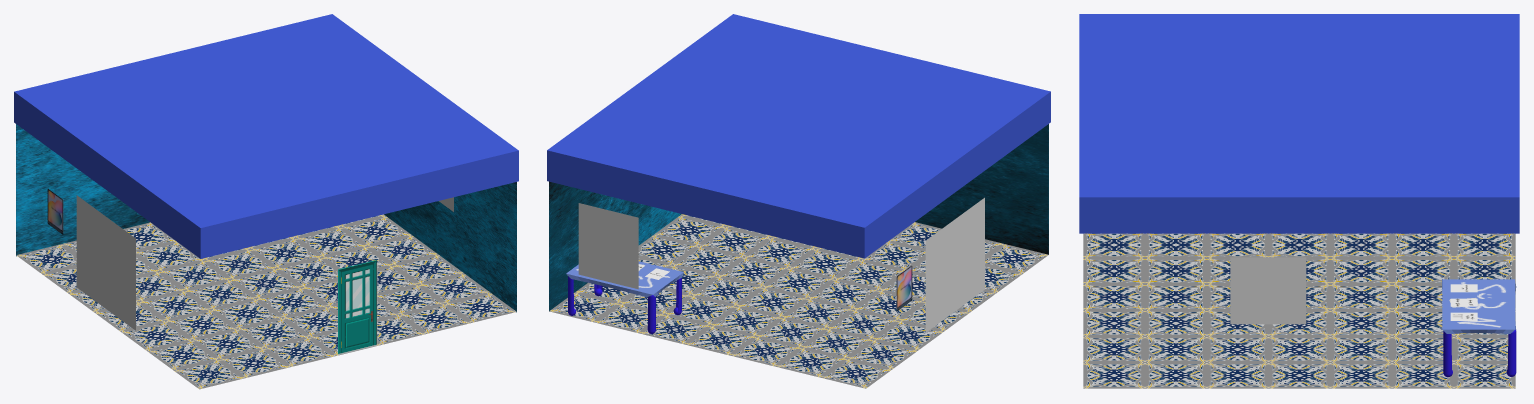
The model's file is vworld-mofid-inside-room.glb.
The picture shows the model from 3 angles, left to right: view 1: azimuth 30°, elevation 25°; view 2: azimuth 150°, elevation 25°; view 3: azimuth 270°, elevation 25°; orthographic projection. The views are drawn at different scales.
Visible parts, largest first — view 1: roof, ground, wall1, wall3, scoreboard, door, tablet; view 2: roof, ground, wall4, scoreboard, wall1, jobsboard, ontable, tablet; view 3: roof, ground, addjobboard, ontable, base2, base4.
Part boxes in pixels (<box>): roof: <box>14,14,518,258</box>; ground: <box>16,214,516,389</box>; wall1: <box>384,182,516,312</box>; wall3: <box>16,124,149,256</box>; scoreboard: <box>76,195,135,330</box>; door: <box>338,260,377,354</box>; tablet: <box>47,189,63,234</box>; roof: <box>547,14,1050,258</box>; ground: <box>549,214,1048,388</box>; wall4: <box>915,124,1048,254</box>; scoreboard: <box>925,197,984,332</box>; wall1: <box>549,181,681,311</box>; jobsboard: <box>578,203,638,289</box>; ontable: <box>566,261,683,297</box>; tablet: <box>896,265,912,311</box>; roof: <box>1079,14,1519,233</box>; ground: <box>1083,233,1515,388</box>; addjobboard: <box>1230,257,1306,324</box>; ontable: <box>1442,279,1516,333</box>; base2: <box>1506,329,1516,376</box>; base4: <box>1443,331,1452,377</box>.
Bounding box in the file's own units: 8.65 × 4.25 × 8.78.
Materials: 16 (11 with a texture image).
